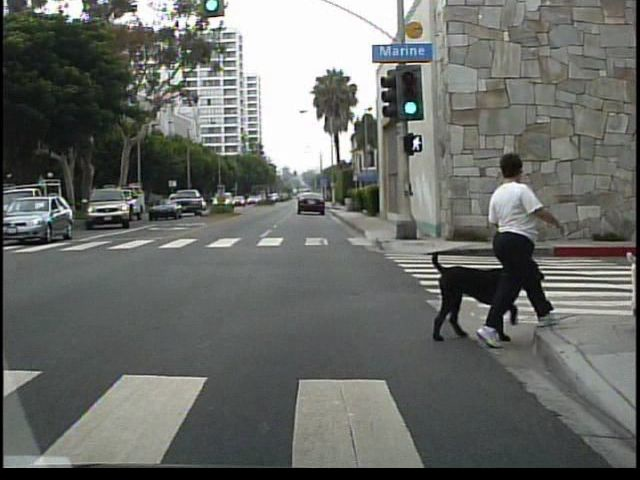person: (476, 145, 549, 344)
